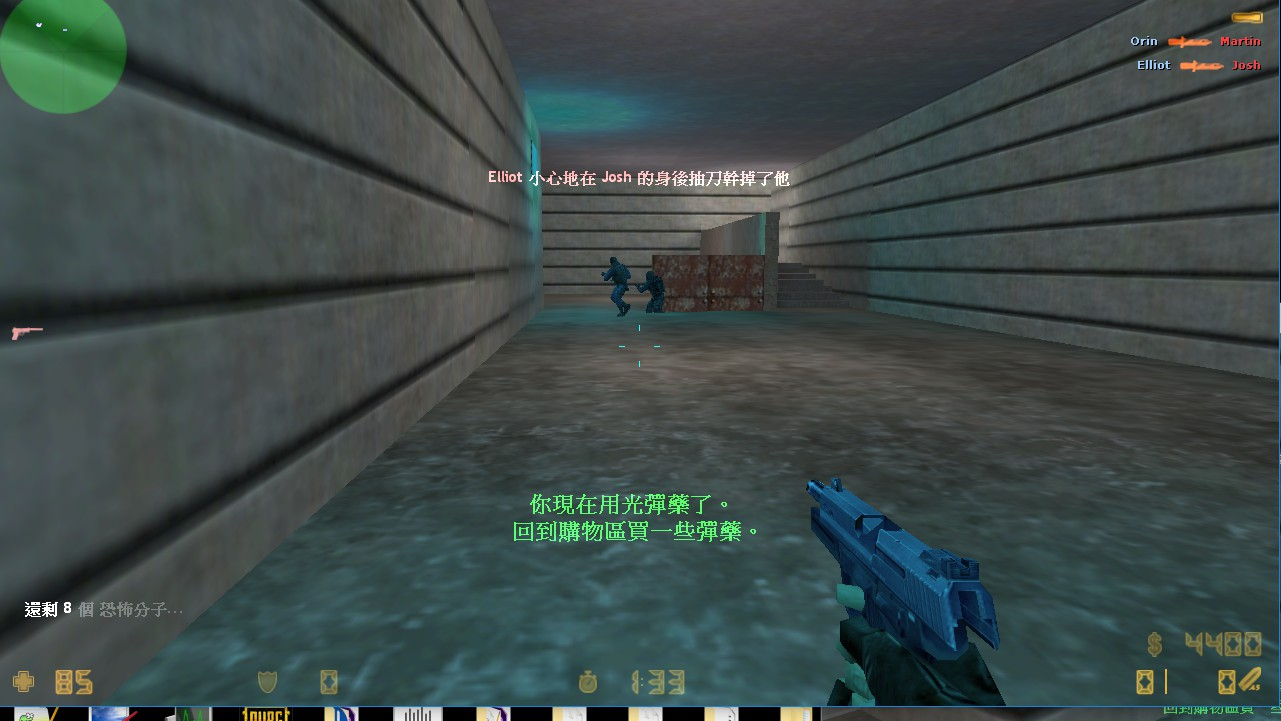person: (598, 255, 632, 323), (641, 270, 667, 313)
